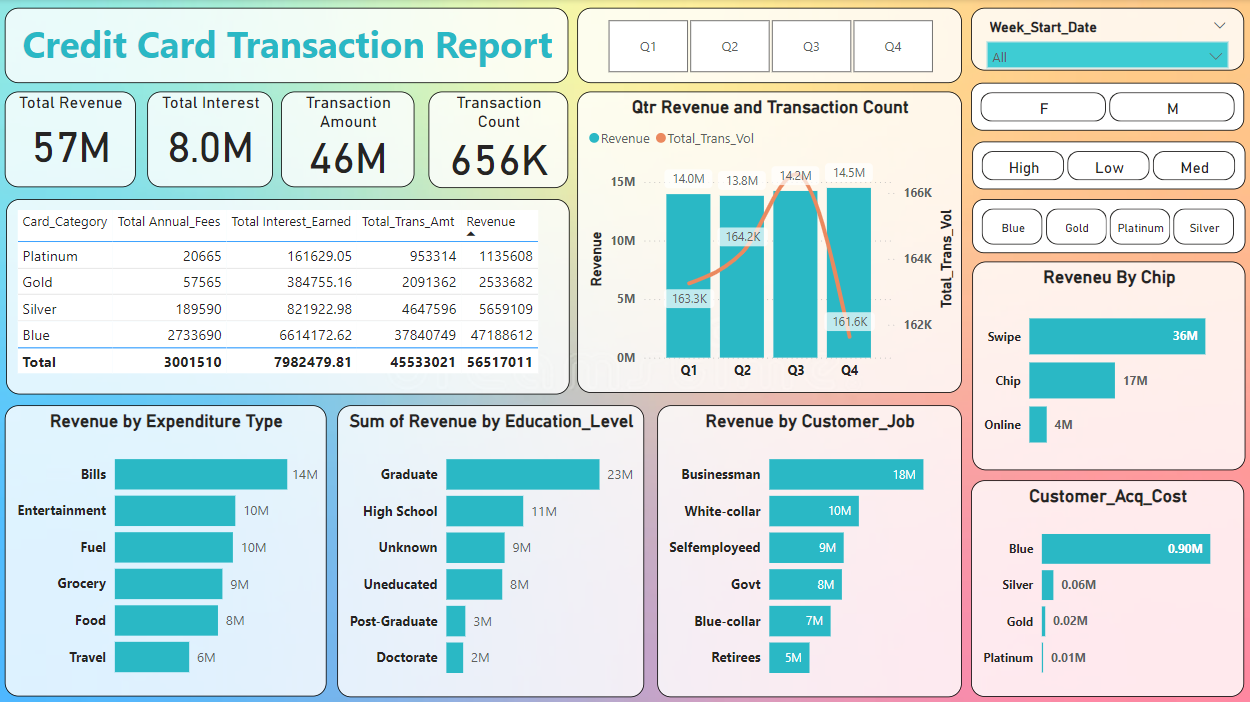

Layout of this report page (visuals, bound fields, positions):
{"tool":"powerbi","page":{"name":"CC Transaction","canvas":[1280,720],"ordinal":1},"visuals":[{"type":"textbox","box":[9,9,574.1,76.9],"z":0},{"type":"card","title":"Total Revenue","fields":{"Values":["Sum(cc_details.Revenue)"]},"box":[9,94.8,133.3,97.4],"z":1000},{"type":"card","title":"Total Interest","fields":{"Values":["Sum(cc_details.Interest_Earned)"]},"box":[153.8,94.8,128.2,97.4],"z":2000},{"type":"card","title":"Transaction Amount","fields":{"Values":["Sum(cc_details.Total_Trans_Amt)"]},"box":[290.9,94.8,135.8,97.4],"z":3000},{"type":"card","title":"Transaction Count","fields":{"Values":["Sum(cc_details.Total_Trans_Vol)"]},"box":[440.9,94.8,142.3,98.7],"z":4000},{"type":"clusteredBarChart","title":"Revenue by Expenditure Type","fields":{"Y":["Sum(cc_details.Revenue)"],"Category":["cc_details.Exp_Type"]},"box":[9.2,414.5,327.9,296.5],"z":5000},{"type":"clusteredBarChart","fields":{"Y":["Sum(cc_details.Revenue)"],"Category":["cust_details.Education_Level"]},"box":[347.3,413.9,312.7,297.3],"z":6000},{"type":"clusteredBarChart","fields":{"Y":["Sum(cc_details.Revenue)"],"Category":["cust_details.Customer_Job"]},"box":[674.1,413.9,310.1,297.3],"z":7000},{"type":"clusteredBarChart","title":"Customer_Acq_Cost","fields":{"Y":["Sum(cc_details.Customer_Acq_Cost)"],"Category":["cc_details.Card_Category"]},"box":[993.2,490.8,278.1,220.4],"z":8000},{"type":"clusteredBarChart","title":"Reveneu By Chip","fields":{"Y":["Sum(cc_details.Revenue)"],"Category":["cc_details.Use_Chip"]},"box":[994.5,267.8,278.1,212.7],"z":9000},{"type":"lineClusteredColumnComboChart","title":"Qtr Revenue and Transaction Count","fields":{"Y":["Sum(cc_details.Revenue)"],"Category":["cc_details.Quarter"],"Y2":["Sum(cc_details.Total_Trans_Vol)"]},"box":[592.1,94.8,392.2,307.6],"z":10000},{"type":"tableEx","fields":{"Values":["cc_details.Card_Category","Sum(cc_details.Annual_Fees)","Sum(cc_details.Interest_Earned)","Sum(cc_details.Total_Trans_Amt)","Sum(cc_details.Revenue)"]},"box":[9.6,203.8,574.1,199],"z":11000},{"type":"slicer","fields":{"Values":["cc_details.Week_Start_Date"]},"box":[993.2,9,278.1,64.1],"z":12000},{"type":"slicer","fields":{"Values":["cc_details.Quarter"]},"box":[592.1,9,392.2,76.9],"z":13000},{"type":"advancedSlicerVisual","fields":{"Values":["cust_details.Gender"]},"box":[993.2,85.9,278.1,48.7],"z":14000},{"type":"advancedSlicerVisual","fields":{"Values":["cust_details.Income Group"]},"box":[994.5,144.8,278.1,48.7],"z":15000},{"type":"advancedSlicerVisual","fields":{"Values":["cc_details.Card_Category"]},"box":[994.5,203.8,278.1,55.1],"z":16000}]}

Visuals, with their boxes in screenshot pixels (x1, y1, x2, y2), scaled from the page's 1280x720 canvas onto the 1250x702 screenshot:
textbox: [9,9,569,84]
"Total Revenue" card: [9,92,139,187]
"Total Interest" card: [150,92,275,187]
"Transaction Amount" card: [284,92,417,187]
"Transaction Count" card: [431,92,570,189]
"Revenue by Expenditure Type" clusteredBarChart: [9,404,329,693]
clusteredBarChart - Sum(cc_details.Revenue) x cust_details.Education_Level: [339,404,645,693]
clusteredBarChart - Sum(cc_details.Revenue) x cust_details.Customer_Job: [658,404,961,693]
"Customer_Acq_Cost" clusteredBarChart: [970,479,1242,693]
"Reveneu By Chip" clusteredBarChart: [971,261,1243,468]
"Qtr Revenue and Transaction Count" lineClusteredColumnComboChart: [578,92,961,392]
tableEx - cc_details.Card_Category x Sum(cc_details.Annual_Fees): [9,199,570,393]
slicer - cc_details.Week_Start_Date: [970,9,1242,71]
slicer - cc_details.Quarter: [578,9,961,84]
advancedSlicerVisual - cust_details.Gender: [970,84,1242,131]
advancedSlicerVisual - cust_details.Income Group: [971,141,1243,189]
advancedSlicerVisual - cc_details.Card_Category: [971,199,1243,252]
